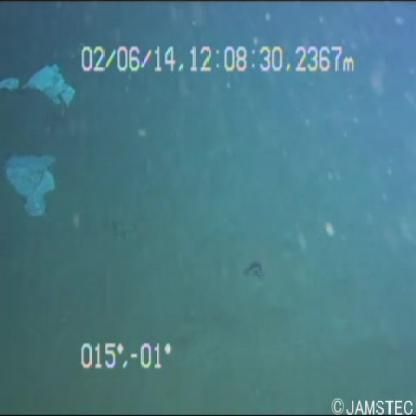Rác: (3, 138, 59, 228), (1, 64, 79, 116)
